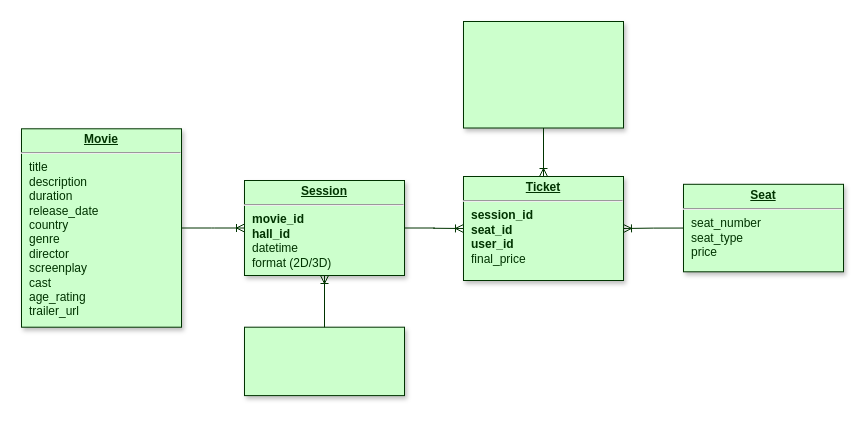
Some shapes in this 867 by 421 pixel diagram are drawn without their labels. The centre of each missing label's shape, as x and y in pixels:
"Hall name capacity" goes at [325,362].
"User username email password_hash card ticket" goes at [544,75].
